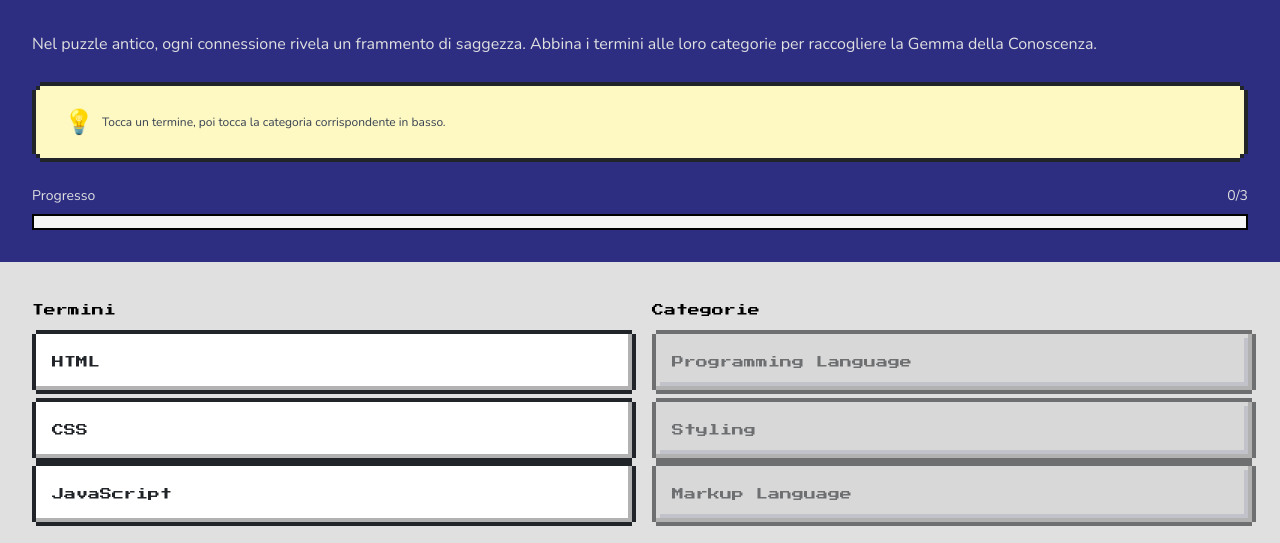
Test: RetroPuzzle with ChallengeButton › should apply disabled variant for matched pairs
Note: Fai un match
Click the button with test id "term-html" at (76,362), box [36,334,632,390]
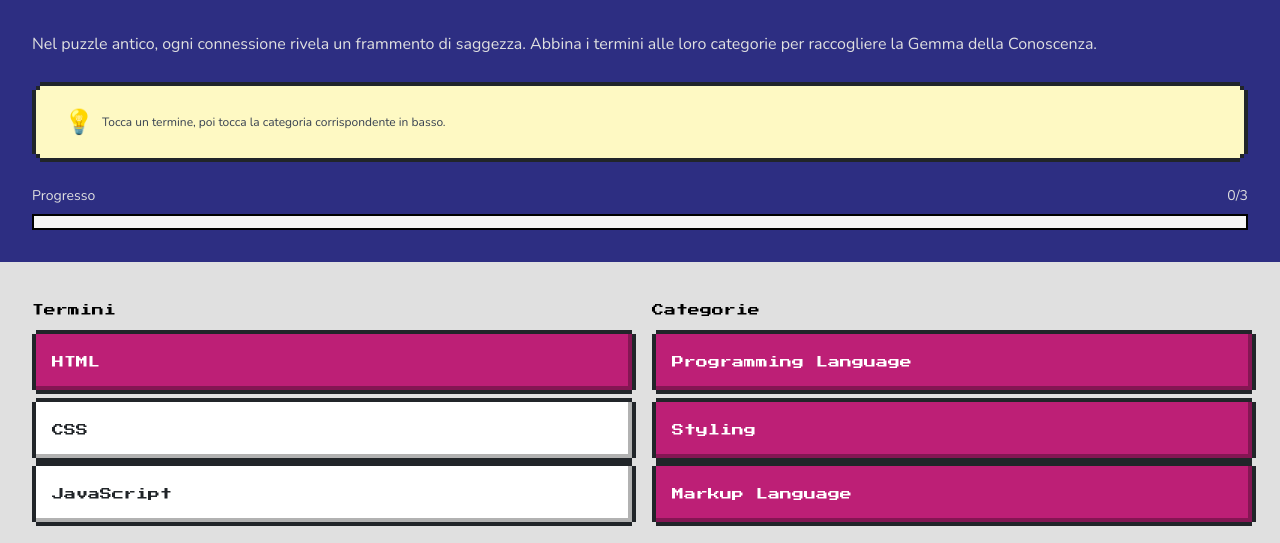
Click the button with test id "category-markup-language" at (762,494), box [656,466,1252,522]
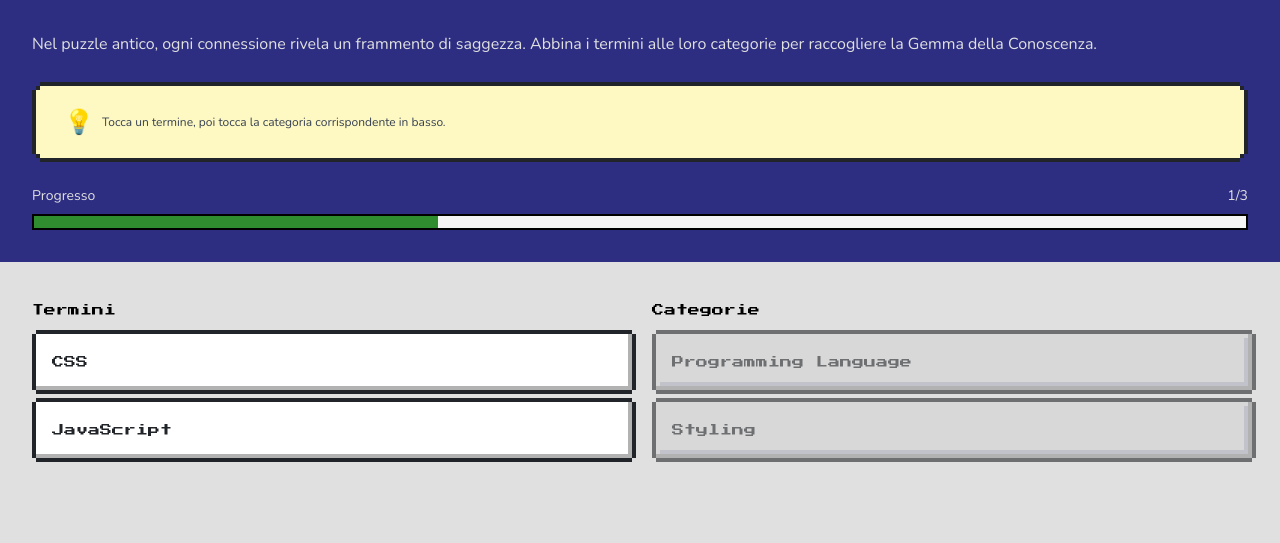
Now the button with test id "term-html" is gone
Now the button with test id "category-markup-language" is gone
